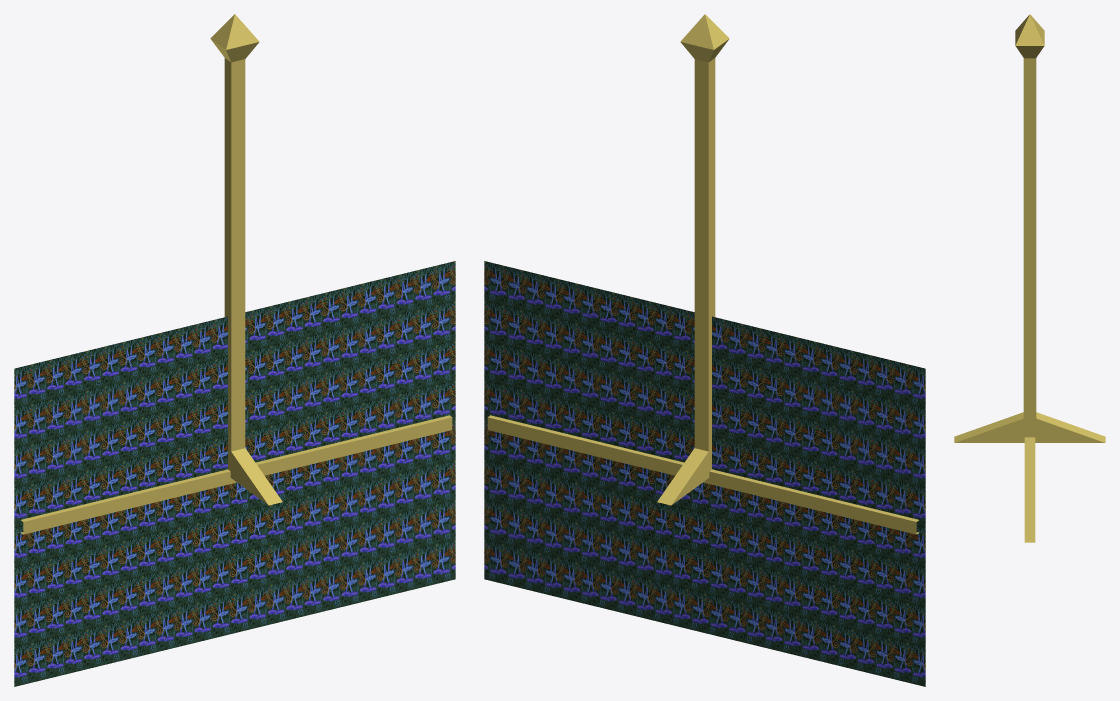
The model's file is 4478wall_r.gltf.
3 renders of one model, left to right at view 1: azimuth 30°, elevation 25°; view 2: azimuth 150°, elevation 25°; view 3: azimuth 270°, elevation 25°, orthographic. The views are drawn at different scales.
Visible parts, largest first — view 1: 4478wall_r; view 2: 4478wall_r; view 3: 4478wall_r.
Part boxes in pixels (left/top/right/bottom): 4478wall_r: left=14, top=14, right=455, bottom=686; 4478wall_r: left=484, top=14, right=925, bottom=686; 4478wall_r: left=954, top=14, right=1105, bottom=542.
Size of the model in its own units: 1.83 by 2.45 by 0.5869.
Materials: 2 (1 with a texture image).
